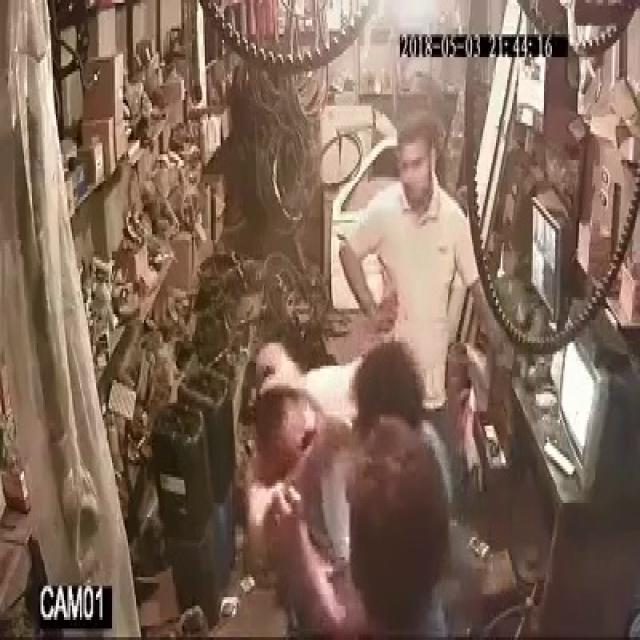Violence: (254, 338, 460, 640)
